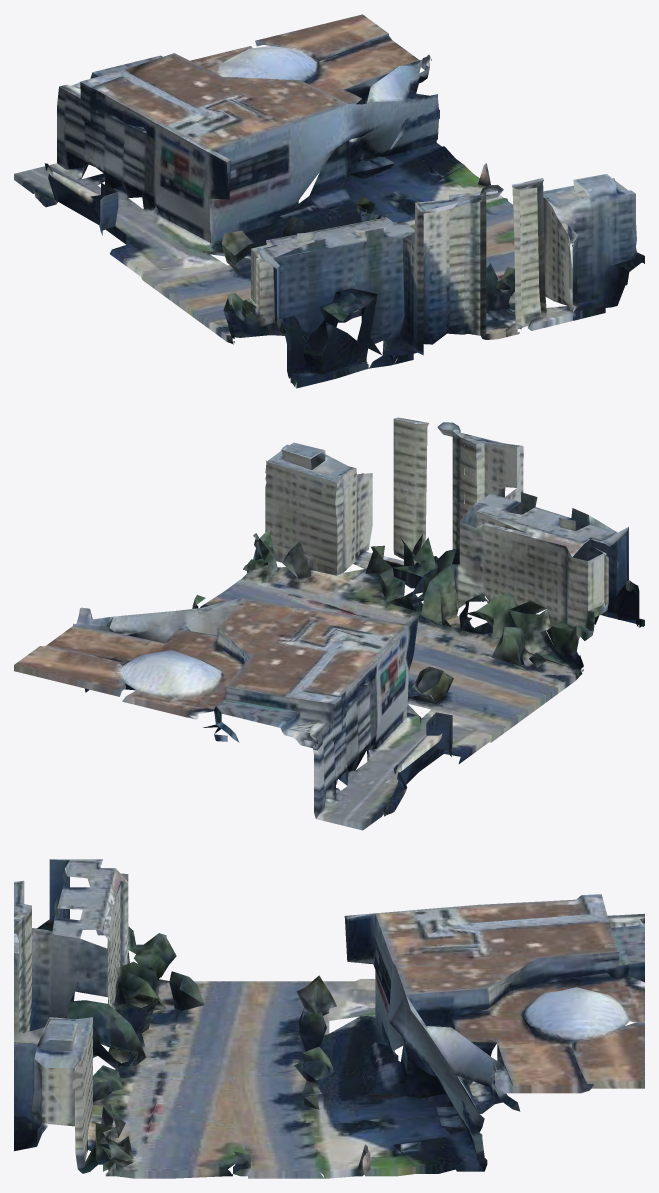
3 views of the same model, one above another, from view 1: azimuth 30°, elevation 25°; view 2: azimuth 150°, elevation 25°; view 3: azimuth 270°, elevation 25° (orthographic). The views are drawn at different scales.
Visible parts, largest first — view 1: 304362727043706075_0; view 2: 304362727043706075_0; view 3: 304362727043706075_0.
Part boxes in pixels (x1,y1,x2,y2): 304362727043706075_0: [14, 14, 644, 388]; 304362727043706075_0: [14, 417, 644, 830]; 304362727043706075_0: [14, 859, 644, 1178].
Size of the model in its own units: 109 by 48.08 by 153.
1 material, 1 textured.
